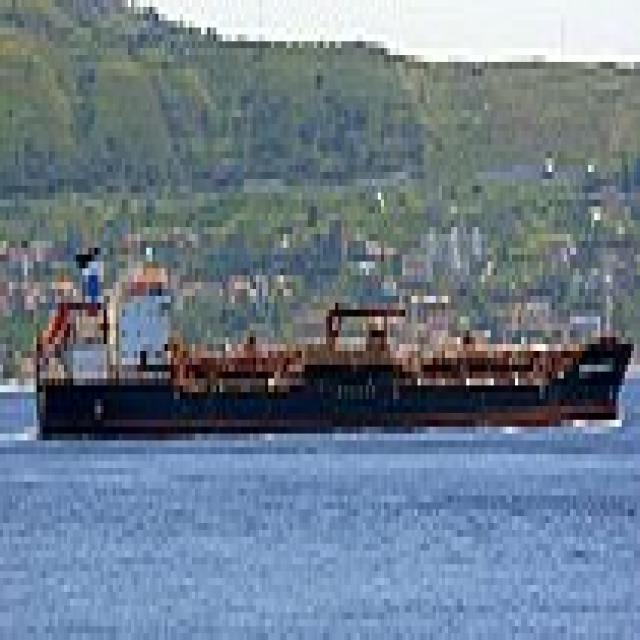Tanker: (27, 220, 634, 448)
